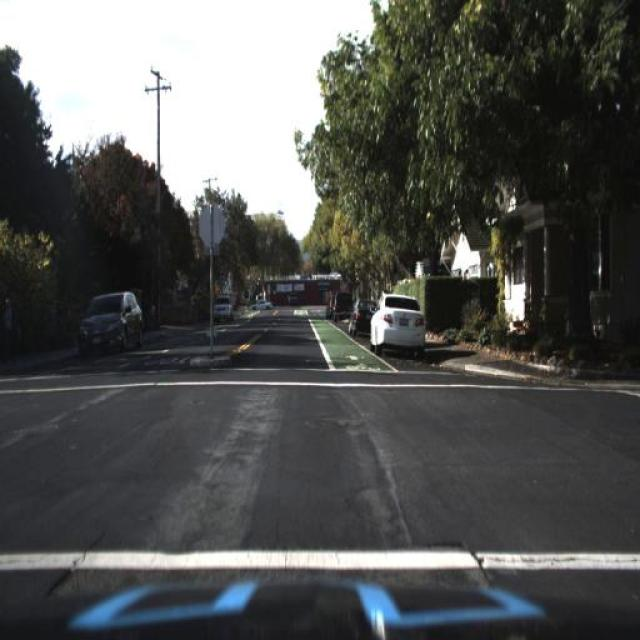car: (82, 290, 142, 361), (368, 291, 423, 360), (345, 299, 376, 341), (348, 296, 372, 336), (209, 293, 233, 323), (210, 293, 234, 323), (331, 292, 353, 322)
trafficLight: (0, 293, 20, 362)
